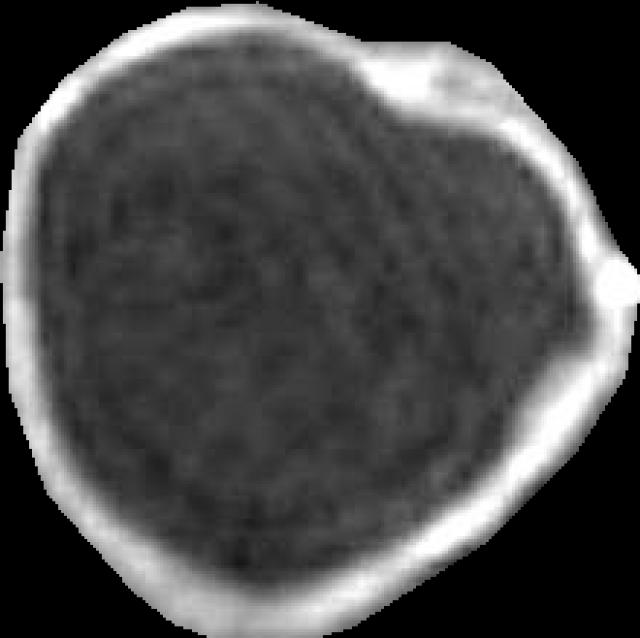tumor_good_chance: (0, 1, 640, 638)
